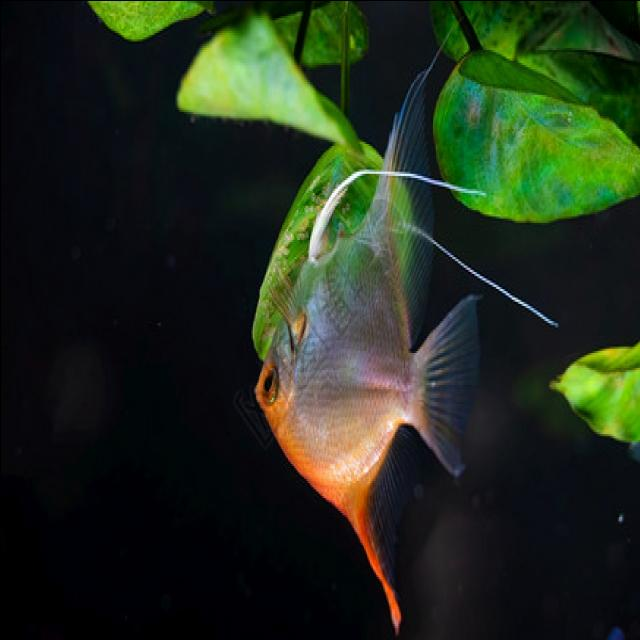AngelFish: (254, 57, 473, 630)
